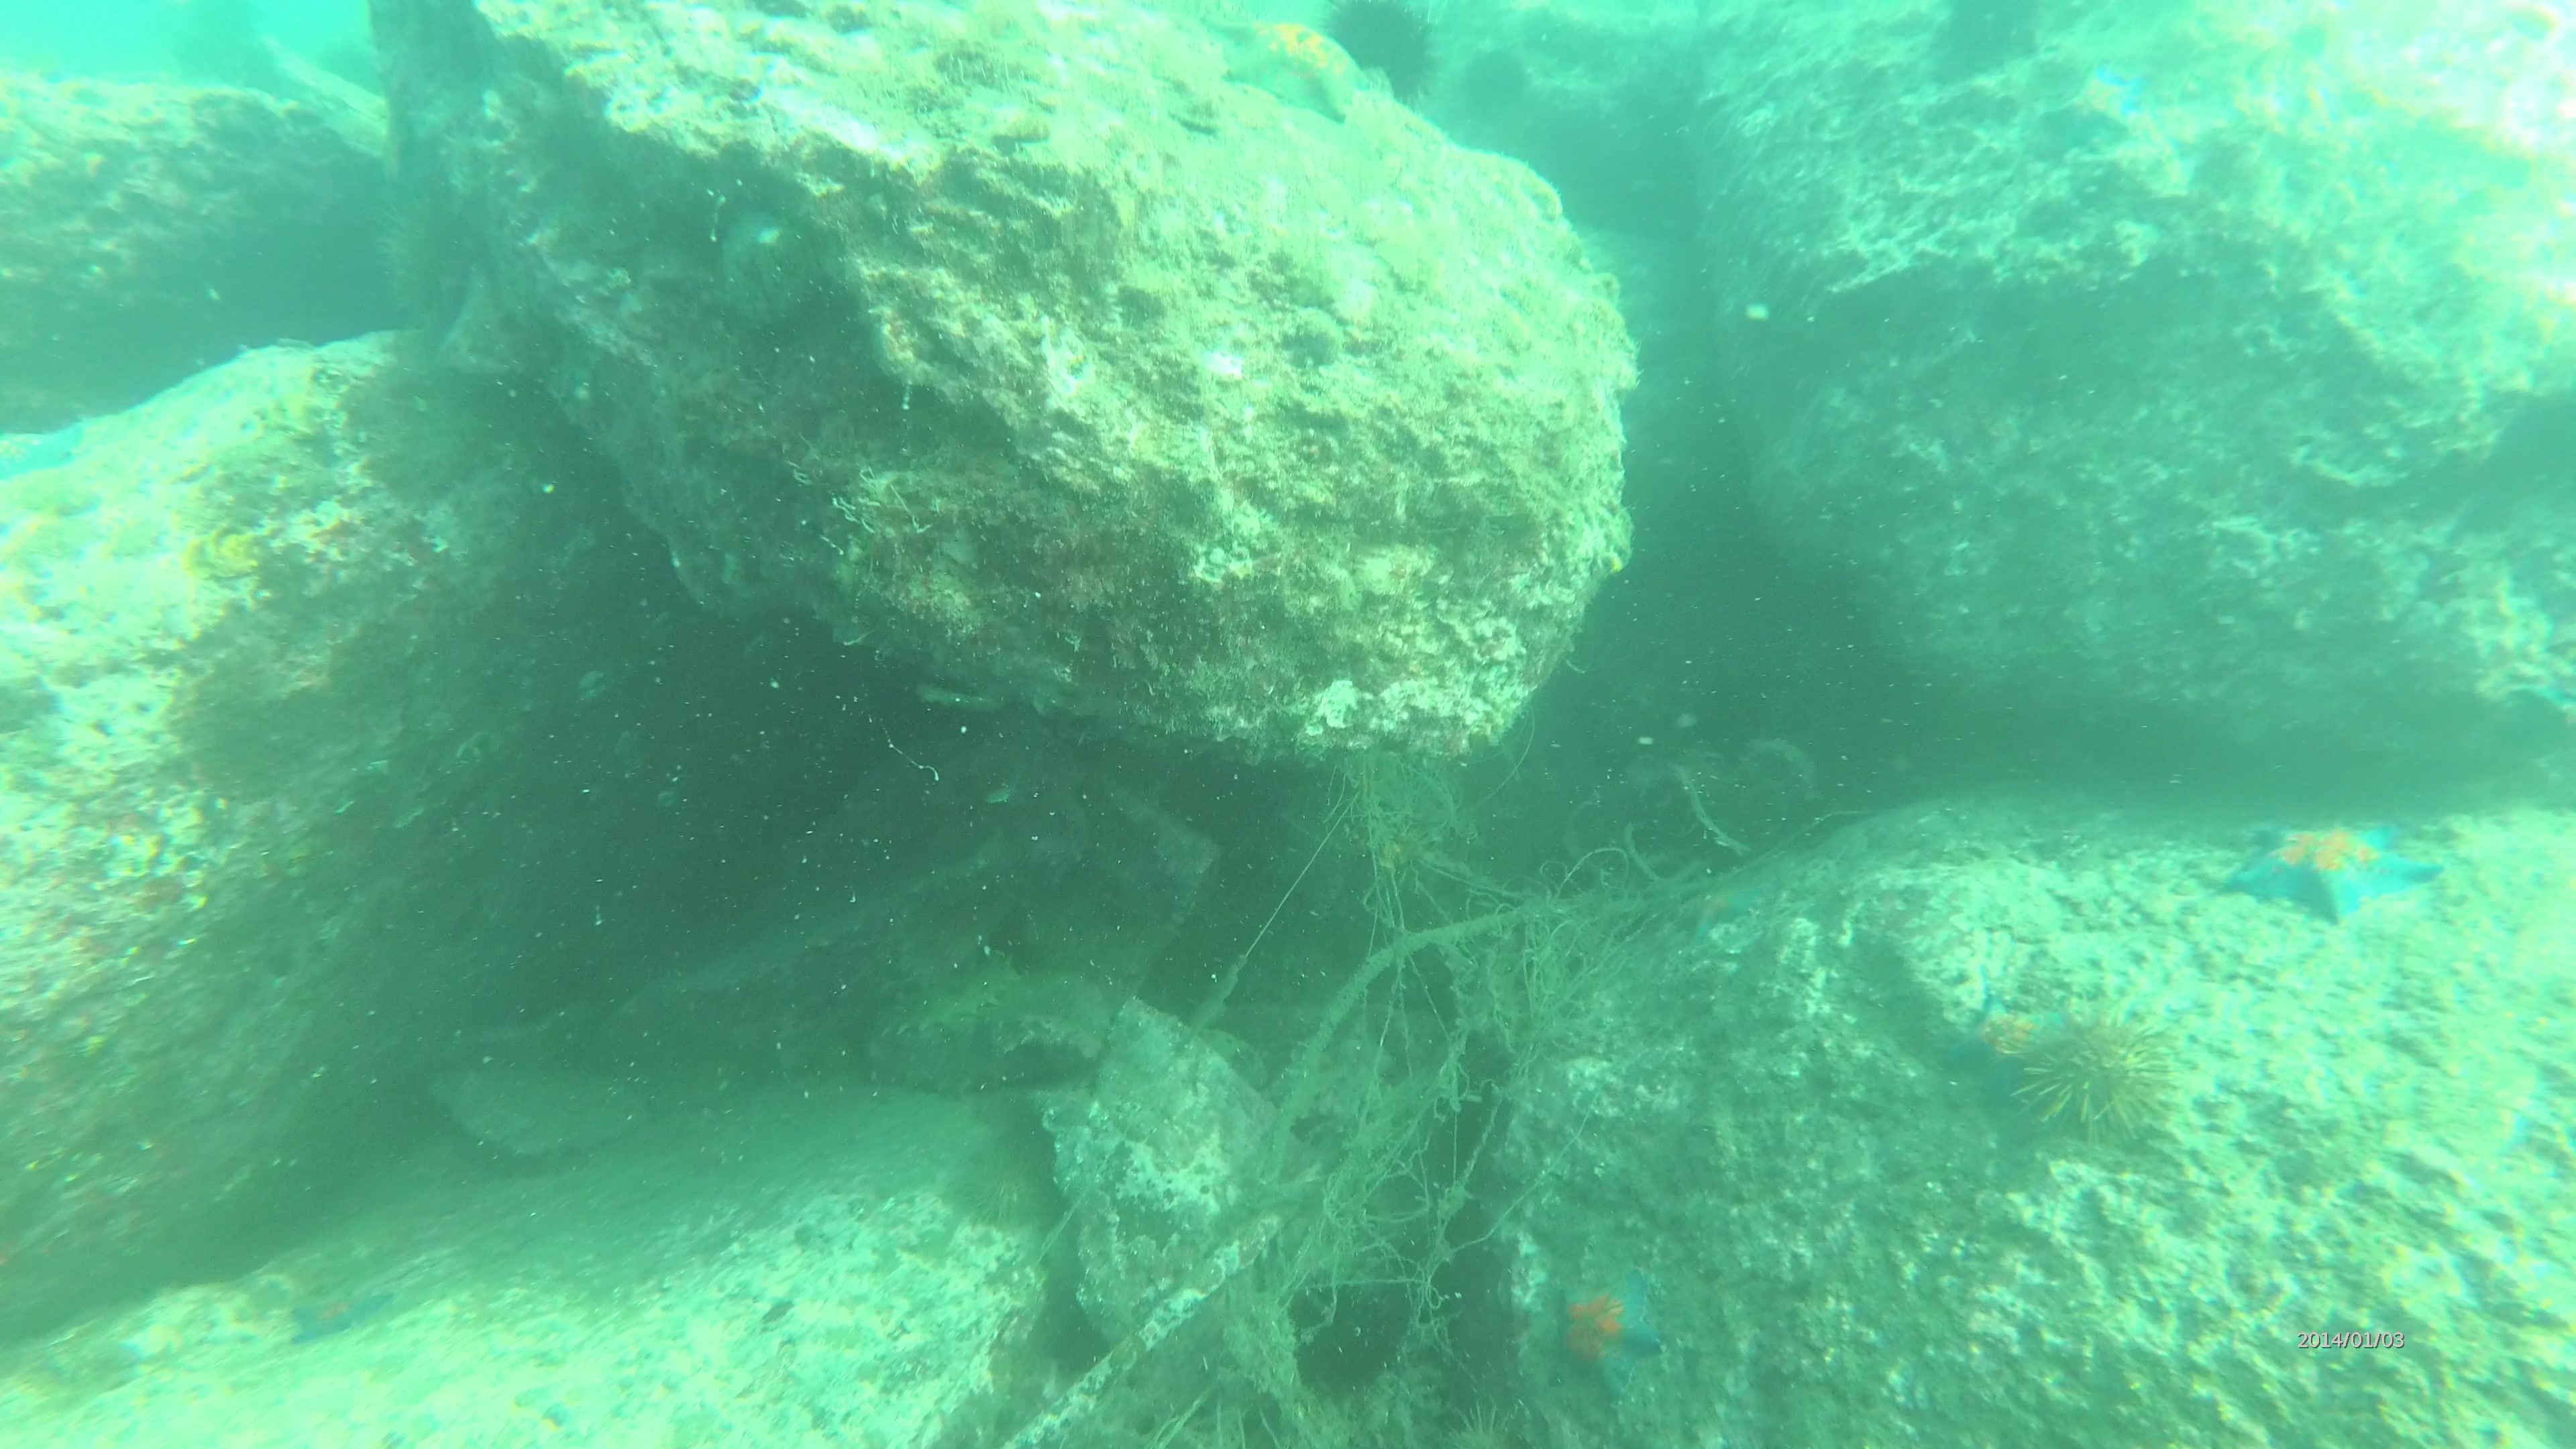echinus: (2033, 1019, 2174, 1152), (962, 1146, 1046, 1224)
starfish: (2238, 801, 2447, 929), (1214, 16, 1378, 131), (1543, 1272, 1663, 1399), (1950, 985, 2068, 1097), (2045, 67, 2144, 156), (288, 1286, 387, 1348)
